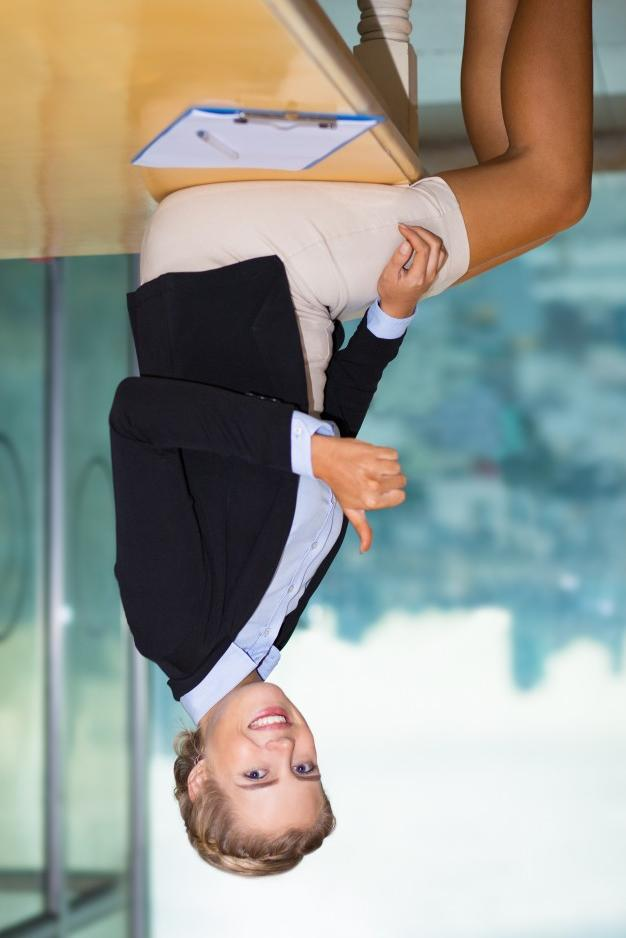thumbsdown: (352, 445, 408, 555)
